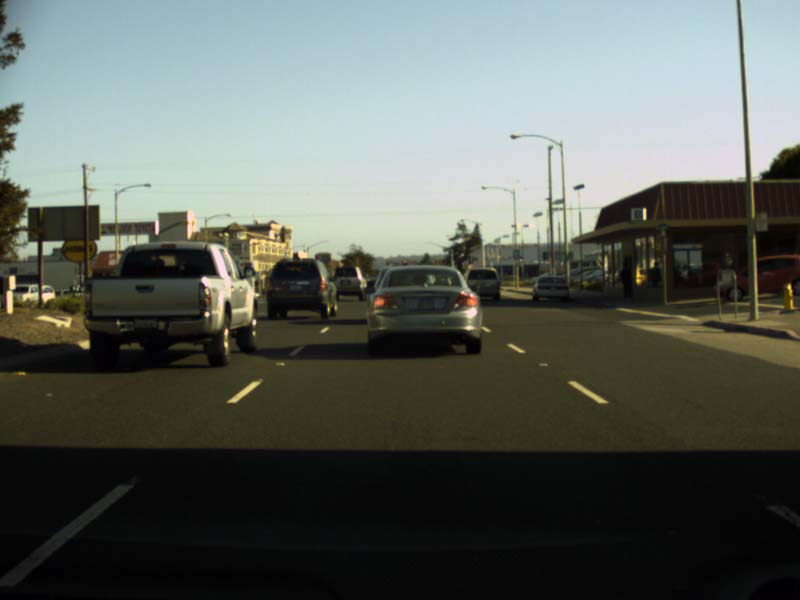Red: (402, 259, 407, 265), (385, 259, 389, 265)
